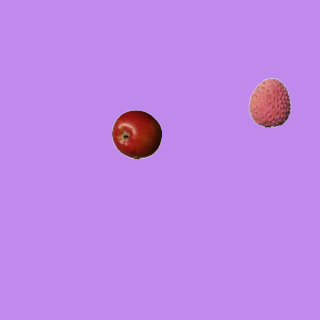Apple Braeburn: (111, 109, 161, 159)
Lychee: (244, 77, 294, 127)
